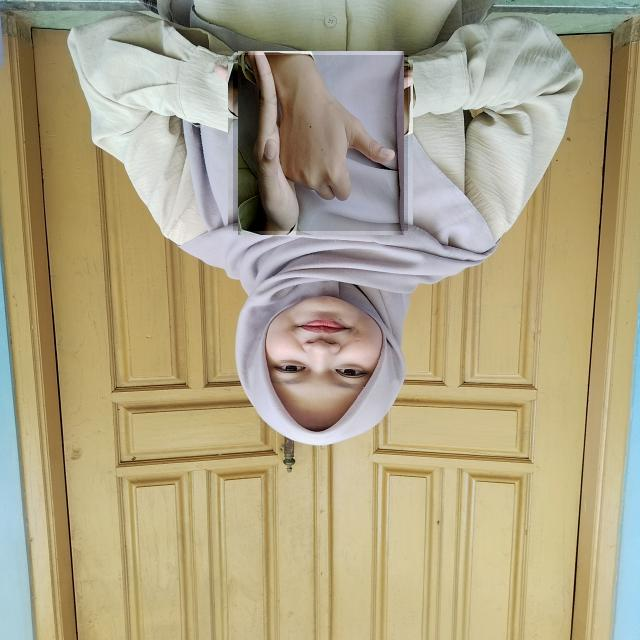cantik: (233, 55, 408, 231)
